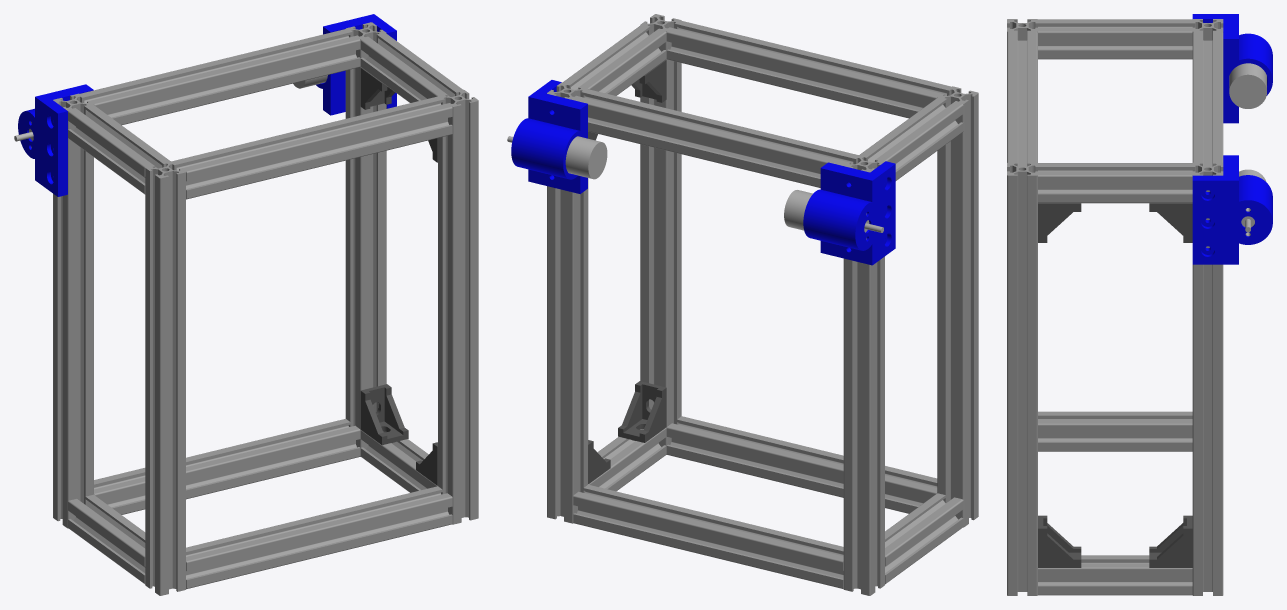
The model's file is Chassis.obj.
3 views of the same model, side by side, from view 1: azimuth 30°, elevation 25°; view 2: azimuth 150°, elevation 25°; view 3: azimuth 270°, elevation 25° (orthographic).
Visible parts, largest first — view 1: mesh239, mesh229, mesh308, mesh260, mesh234, mesh257, mesh299, mesh312, mesh228, mesh313, mesh218, mesh240 (+39 smaller); view 2: mesh217, mesh251, mesh298, mesh264, mesh157, mesh299, mesh212, mesh257, mesh293, mesh292, mesh218, mesh228 (+41 smaller); view 3: mesh218, mesh228, mesh223, mesh164, mesh7, mesh55, mesh107, mesh46, mesh257, mesh299, mesh304, mesh4 (+33 smaller).
Part boxes in pixels (box(x1,y1,x2,y2)): mesh239: box(85, 50, 461, 591); mesh229: box(69, 38, 477, 595); mesh308: box(95, 41, 452, 571); mesh260: box(113, 58, 452, 587); mesh234: box(73, 32, 464, 589); mesh257: box(90, 36, 451, 561); mesh299: box(80, 29, 442, 551); mesh312: box(104, 50, 447, 574); mesh228: box(62, 175, 159, 595); mesh313: box(108, 54, 449, 578); mesh218: box(53, 168, 149, 588); mesh240: box(355, 49, 451, 514); mesh217: box(547, 30, 962, 595); mesh251: box(564, 43, 945, 591); mesh298: box(573, 33, 935, 570); mesh264: box(573, 50, 917, 587); mesh157: box(511, 118, 871, 250); mesh299: box(574, 28, 941, 560); mesh212: box(560, 24, 958, 589); mesh257: box(584, 21, 950, 551); mesh293: box(578, 42, 926, 574); mesh292: box(577, 47, 922, 578); mesh218: box(871, 100, 968, 595); mesh228: box(880, 94, 978, 588); mesh218: box(1027, 175, 1221, 595); mesh228: box(1008, 175, 1202, 595); mesh223: box(1018, 171, 1212, 591); mesh164: box(1192, 180, 1272, 264); mesh7: box(1038, 50, 1192, 594); mesh55: box(1038, 33, 1192, 577); mesh107: box(1038, 203, 1192, 567); mesh46: box(1038, 19, 1192, 559); mesh257: box(1008, 32, 1202, 162); mesh299: box(1027, 32, 1221, 162); mesh304: box(1018, 40, 1212, 166); mesh4: box(1038, 27, 1192, 567).
Size of the model in its own units: 0.277 by 0.3 by 0.172.
